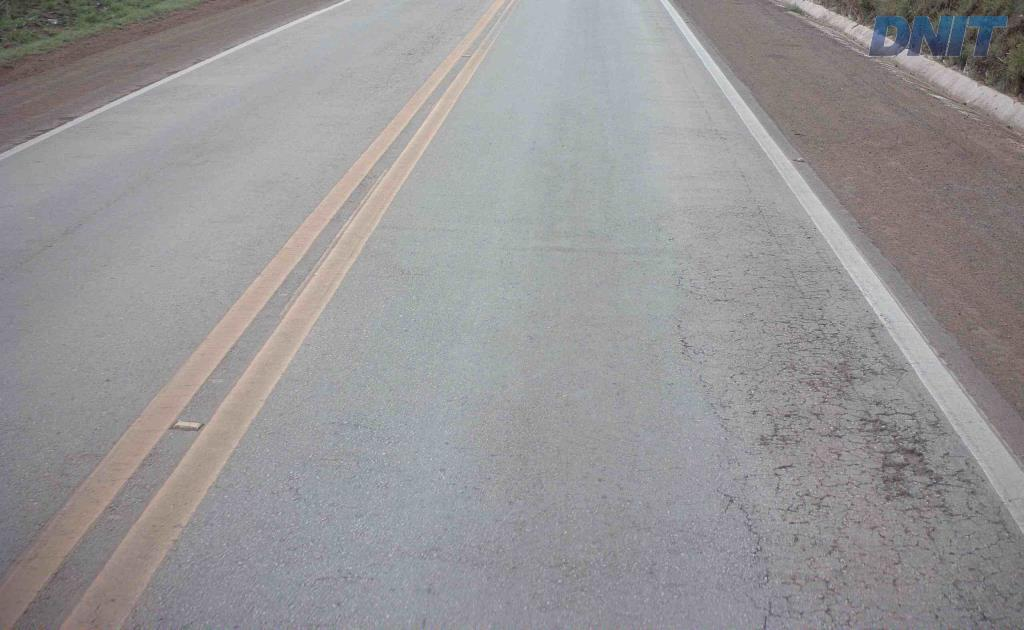crack: (856, 398, 953, 502), (817, 350, 884, 401), (967, 566, 1023, 613), (953, 592, 1023, 629)
